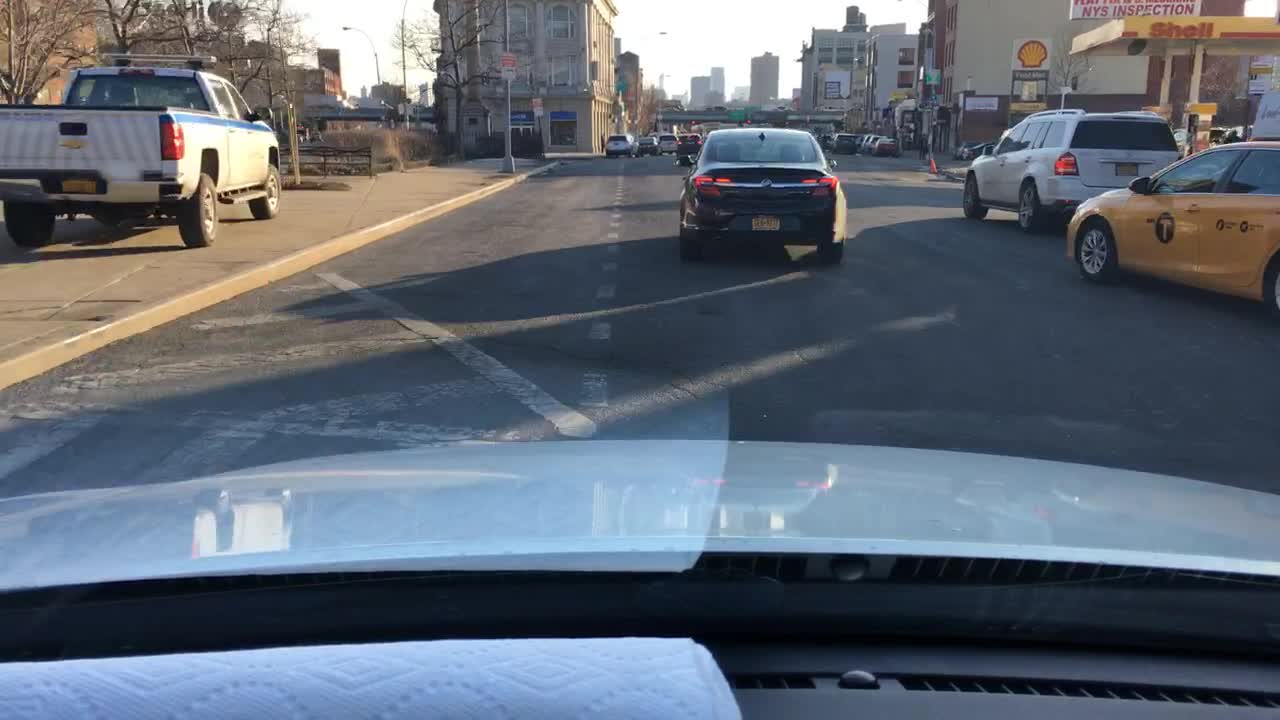car: (1065, 142, 1277, 315), (962, 108, 1178, 235), (671, 129, 845, 260), (605, 134, 638, 156), (830, 133, 856, 153), (674, 135, 701, 153), (655, 132, 676, 152), (874, 138, 896, 154), (639, 137, 660, 153), (867, 134, 887, 149), (861, 136, 872, 145)
traffic sign: (501, 52, 514, 79), (728, 109, 744, 121), (531, 98, 542, 114)
truck: (2, 53, 285, 248)
